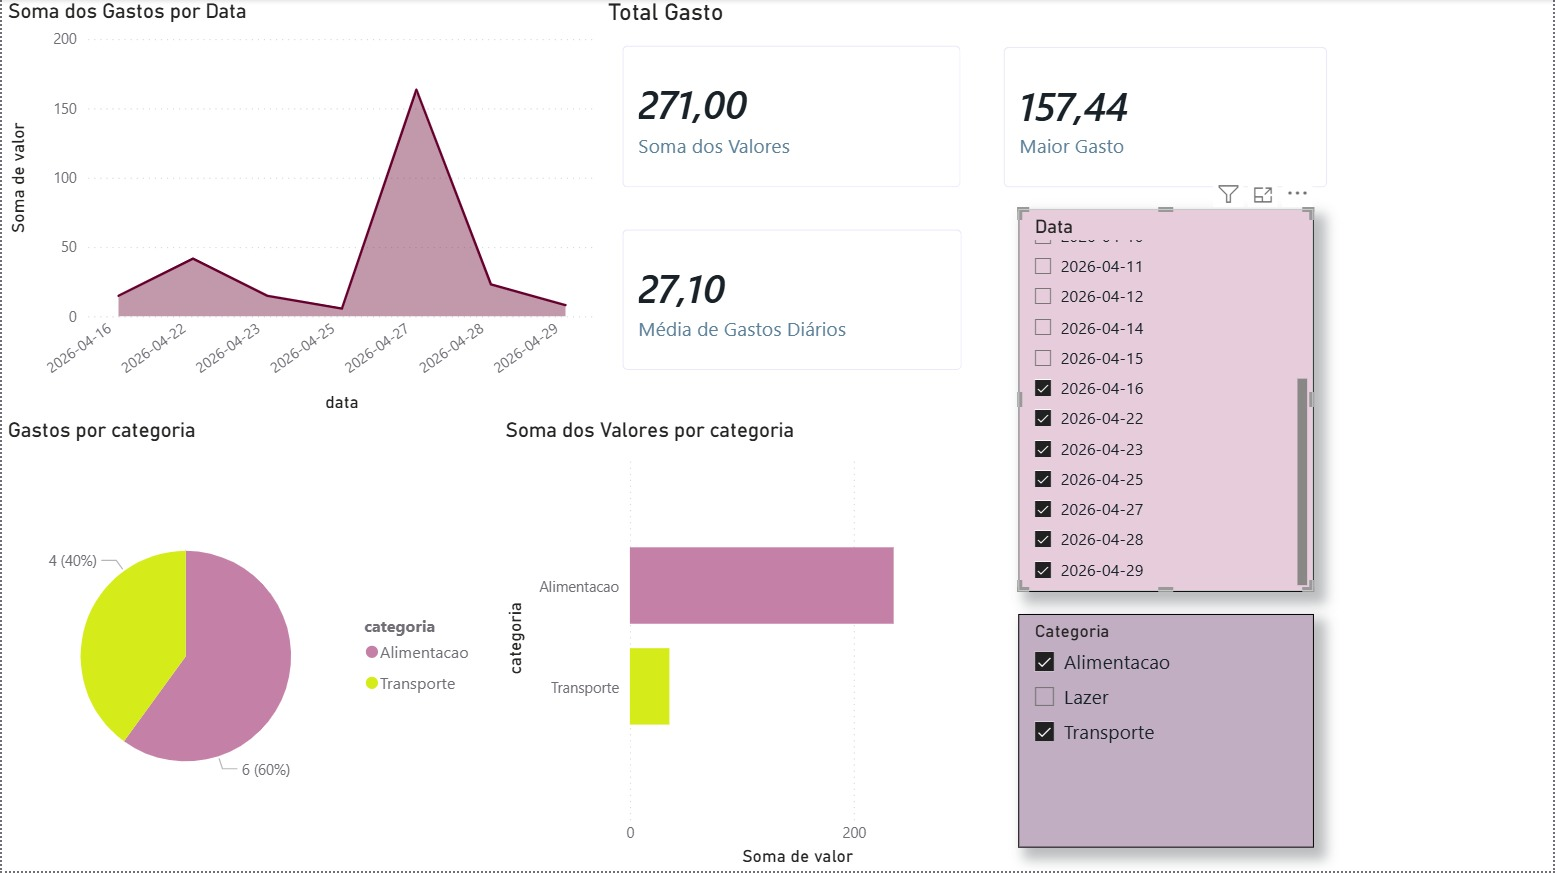

The dashboard page shown, as its layout file describes it:
{"tool":"powerbi","page":{"name":"Dashboard análise de gastos","canvas":[1280,720],"ordinal":0},"visuals":[{"type":"pieChart","title":"Gastos por categoria","fields":{"Category":["gastos.categoria"],"Y":["CountNonNull(gastos.valor)"]},"box":[0,345.8,399.8,374.6],"z":1000},{"type":"clusteredBarChart","title":"Soma dos Valores por categoria","fields":{"Category":["gastos.categoria"],"Y":["Sum(gastos.valor)"]},"box":[410.7,345.8,399.8,374.6],"z":1001},{"type":"lineChart","title":"Soma dos Gastos por Data","fields":{"Category":["gastos.data"],"Y":["Sum(gastos.valor)"]},"box":[0,0,494.7,345.8],"z":1002},{"type":"cardVisual","title":"Total Gasto","fields":{"Data":["Sum(gastos.valor)"]},"box":[495.5,0,313.9,173.2],"z":1003},{"type":"cardVisual","fields":{"Data":["Avg(gastos.valor)"]},"box":[495.1,173.3,314.6,150.6],"z":1004},{"type":"cardVisual","fields":{"Data":["Max(gastos.valor)"]},"box":[809.3,22.8,301.8,150.3],"z":1005},{"type":"slicer","fields":{"Values":["gastos.categoria"]},"box":[838.2,507.5,244.1,192.4],"z":1006},{"type":"slicer","fields":{"Values":["gastos.data"]},"box":[838.2,173.2,244.1,316.3],"z":1007}]}

Visuals, with their boxes in screenshot pixels (x1, y1, x2, y2), scaled from the page's 1280x720 canvas onto the 1555x873 screenshot:
"Gastos por categoria" pieChart: bbox=(0, 419, 486, 872)
"Soma dos Valores por categoria" clusteredBarChart: bbox=(499, 419, 985, 872)
"Soma dos Gastos por Data" lineChart: bbox=(0, 0, 601, 419)
"Total Gasto" cardVisual: bbox=(602, 0, 983, 210)
cardVisual - Avg(gastos.valor): bbox=(601, 210, 984, 393)
cardVisual - Max(gastos.valor): bbox=(983, 28, 1350, 210)
slicer - gastos.categoria: bbox=(1018, 615, 1315, 849)
slicer - gastos.data: bbox=(1018, 210, 1315, 594)
